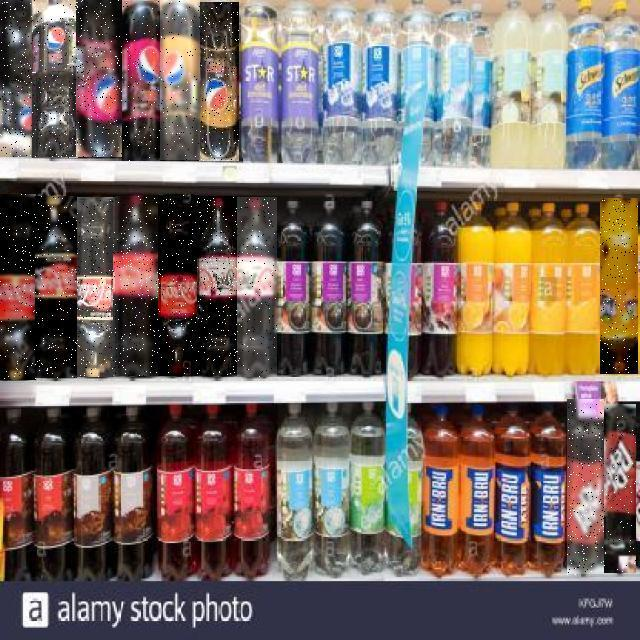Drinks: (35, 196, 77, 378), (117, 196, 159, 376), (158, 195, 199, 377), (32, 0, 78, 158), (76, 0, 122, 157), (78, 197, 118, 377), (197, 196, 237, 376), (237, 197, 277, 377), (1, 194, 37, 380), (600, 198, 638, 374), (567, 400, 604, 576), (160, 0, 200, 160), (199, 2, 239, 161), (122, 1, 160, 161), (1, 0, 37, 157), (604, 404, 636, 573)
